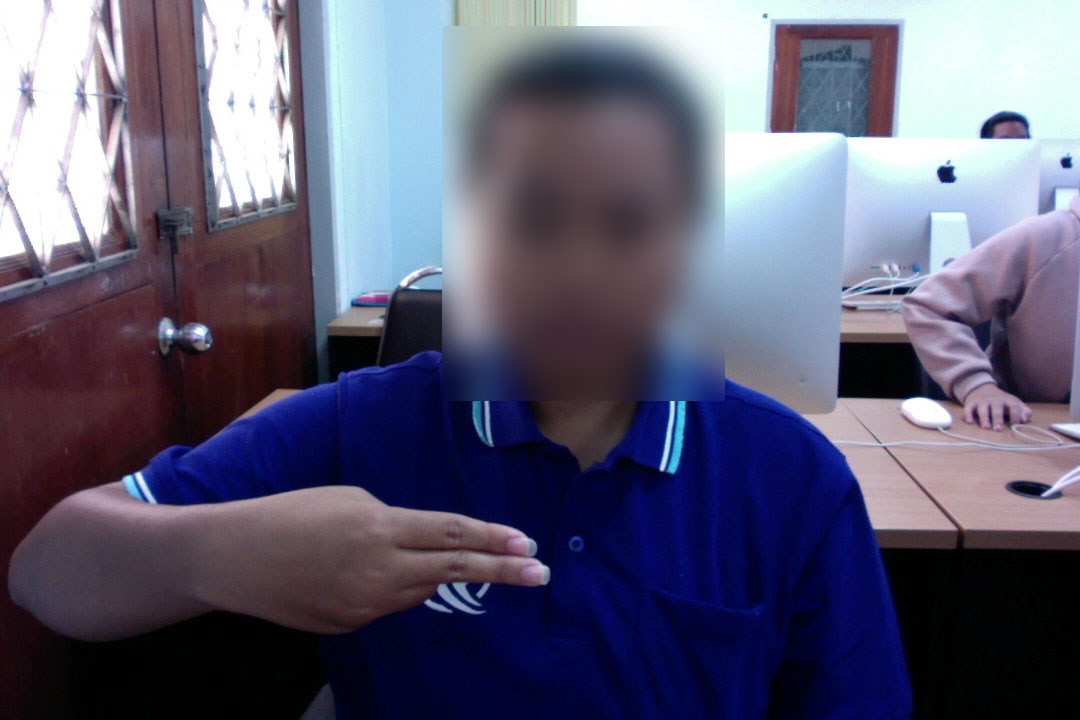hor: (204, 477, 558, 640)
